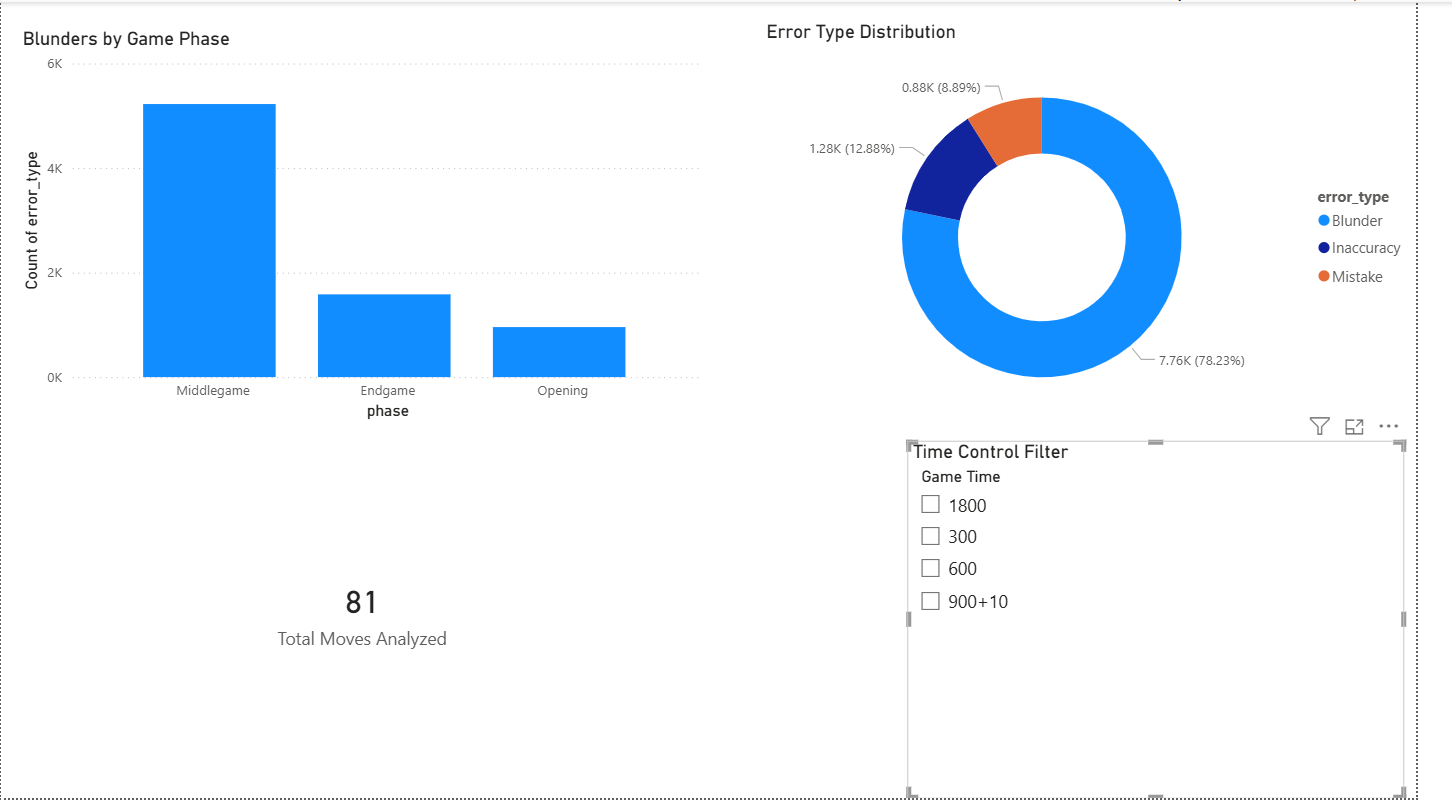

Layout of this report page (visuals, bound fields, positions):
{"tool":"powerbi","page":{"name":"Perfomance Overview","canvas":[1280,720],"ordinal":0},"visuals":[{"type":"columnChart","title":"Blunders by Game Phase","fields":{"Category":["moves.phase"],"Y":["CountNonNull(moves.error_type)"]},"box":[15.1,12.8,624.4,360.5],"z":0},{"type":"donutChart","title":"Error Type Distribution","fields":{"Category":["moves.error_type"],"Y":["CountNonNull(moves.error_type)"]},"box":[687.2,0,593,373.3],"z":1000},{"type":"card","fields":{"Values":["Count(moves.move_number)"]},"box":[15.1,383.7,624.4,336],"z":2000},{"type":"slicer","title":"Time Control Filter","fields":{"Values":["games.time_control"]},"box":[830.2,373.3,450,323.3],"z":3000}]}

Visuals, with their boxes in screenshot pixels (x1, y1, x2, y2), scaled from the page's 1280x720 canvas onto the 1452x807 screenshot:
"Blunders by Game Phase" columnChart: BBox(17, 14, 725, 418)
"Error Type Distribution" donutChart: BBox(780, 0, 1451, 418)
card - Count(moves.move_number): BBox(17, 430, 725, 806)
"Time Control Filter" slicer: BBox(942, 418, 1451, 781)
